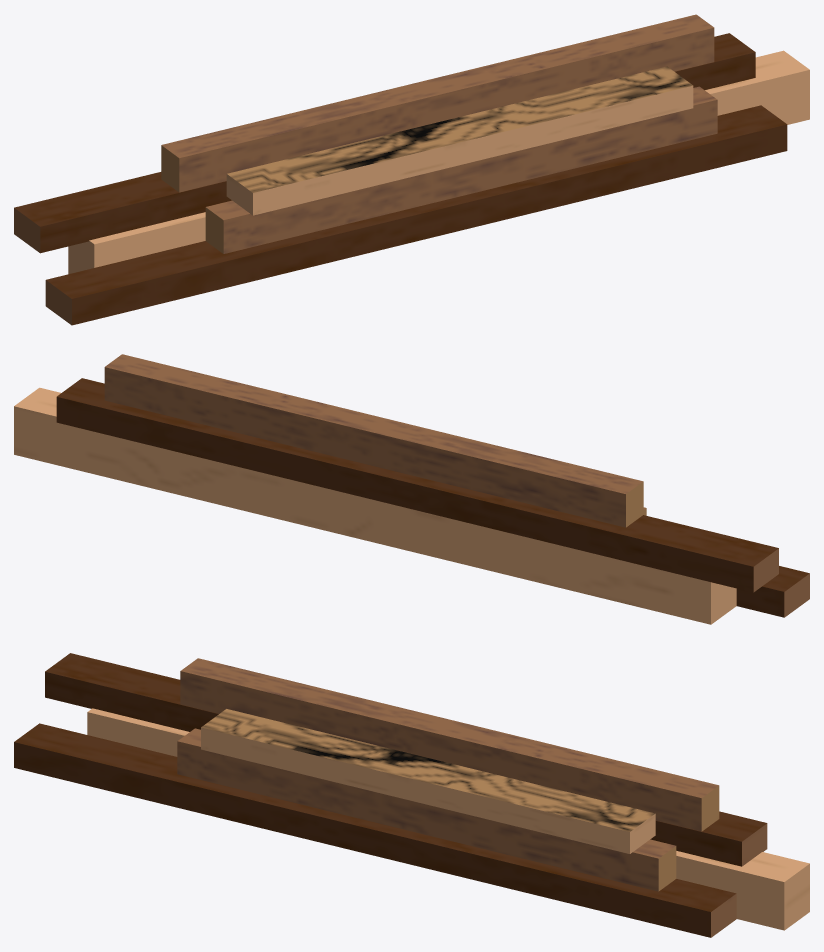
The model's file is SM_Int_WoodenSlats.fbx.
3 renders of one model, top to bottom at view 1: azimuth 30°, elevation 25°; view 2: azimuth 150°, elevation 25°; view 3: azimuth 330°, elevation 25°, orthographic. The views are drawn at different scales.
Visible parts, largest first — view 1: SM_Int_WoodenSlats; view 2: SM_Int_WoodenSlats; view 3: SM_Int_WoodenSlats.
Boxes of the visible parts, <box> form: SM_Int_WoodenSlats: <box>14,14,809,325</box>; SM_Int_WoodenSlats: <box>14,354,809,624</box>; SM_Int_WoodenSlats: <box>14,653,809,937</box>.
Bounding box in the file's own units: 1 × 0.1376 × 0.1311.
1 material, 1 textured.
